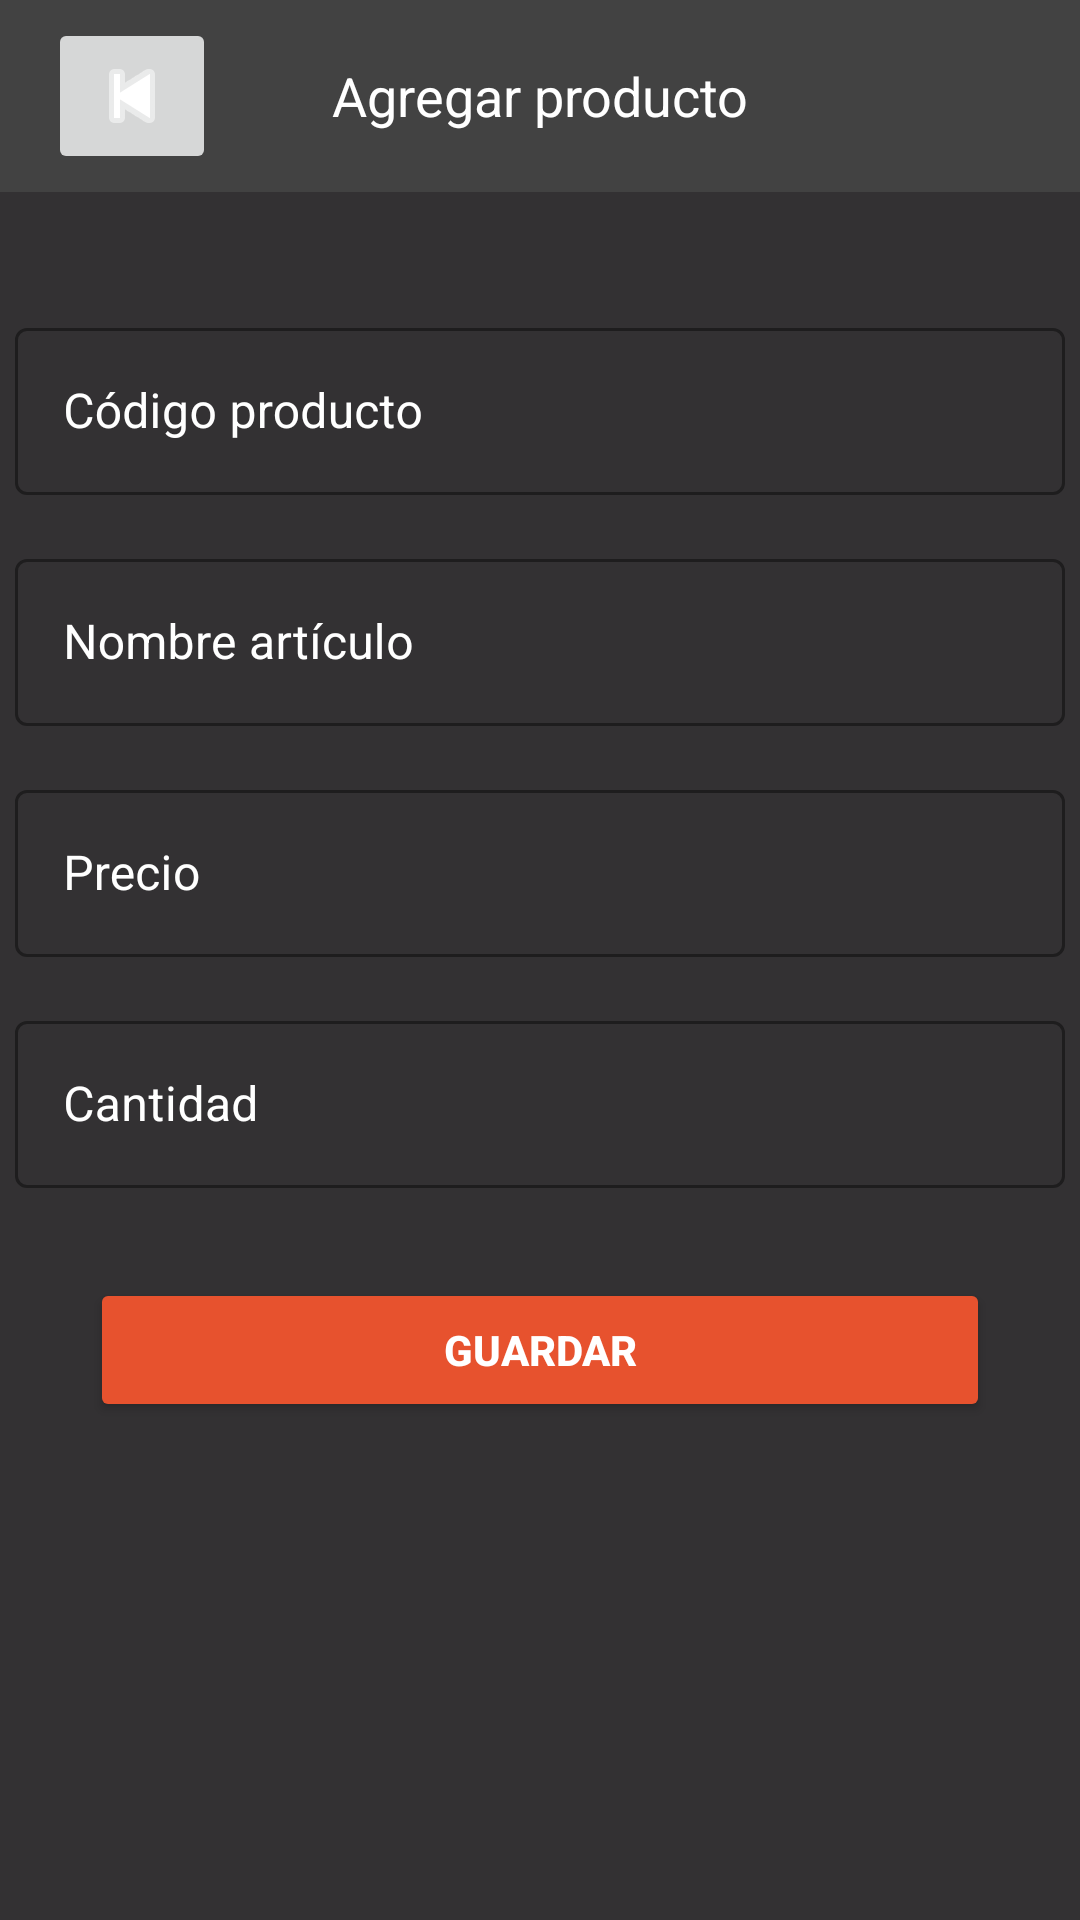

Point at icon controls on the screen. Image size 1080px×1920px, points as (x=x, y=y).
previous: (x=132, y=96)
